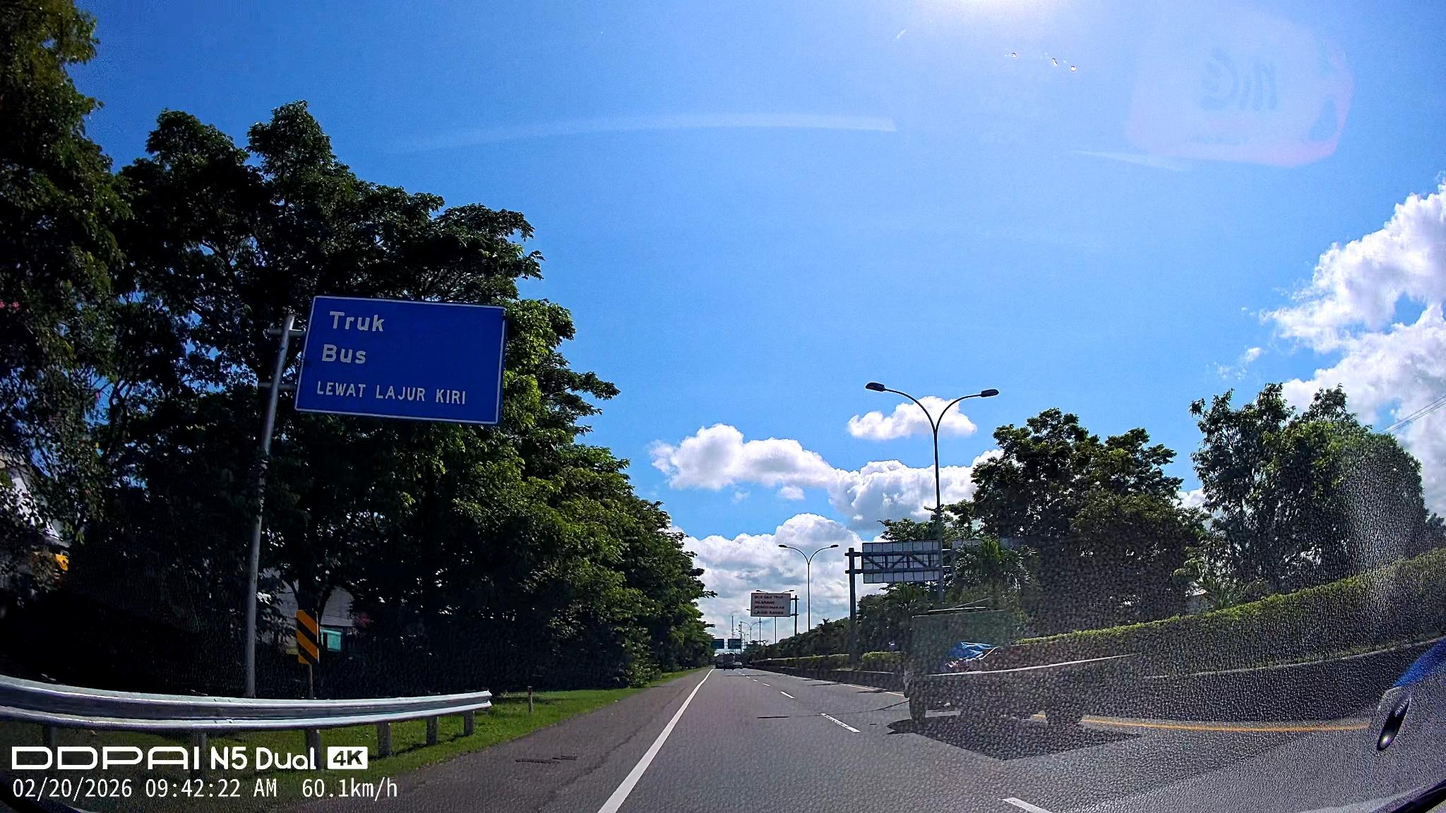rambu_teks: (292, 294, 507, 426)
